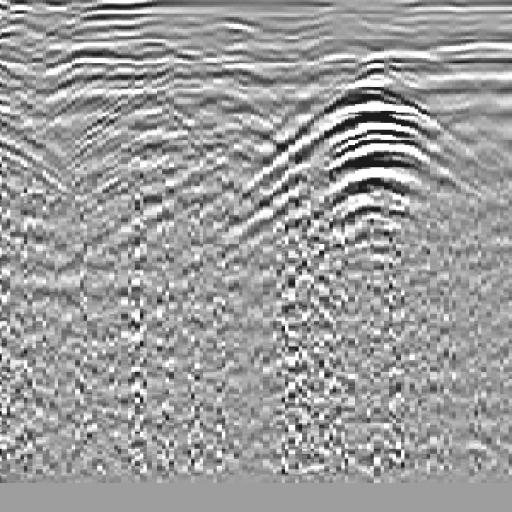metalic: (247, 63, 476, 274)
